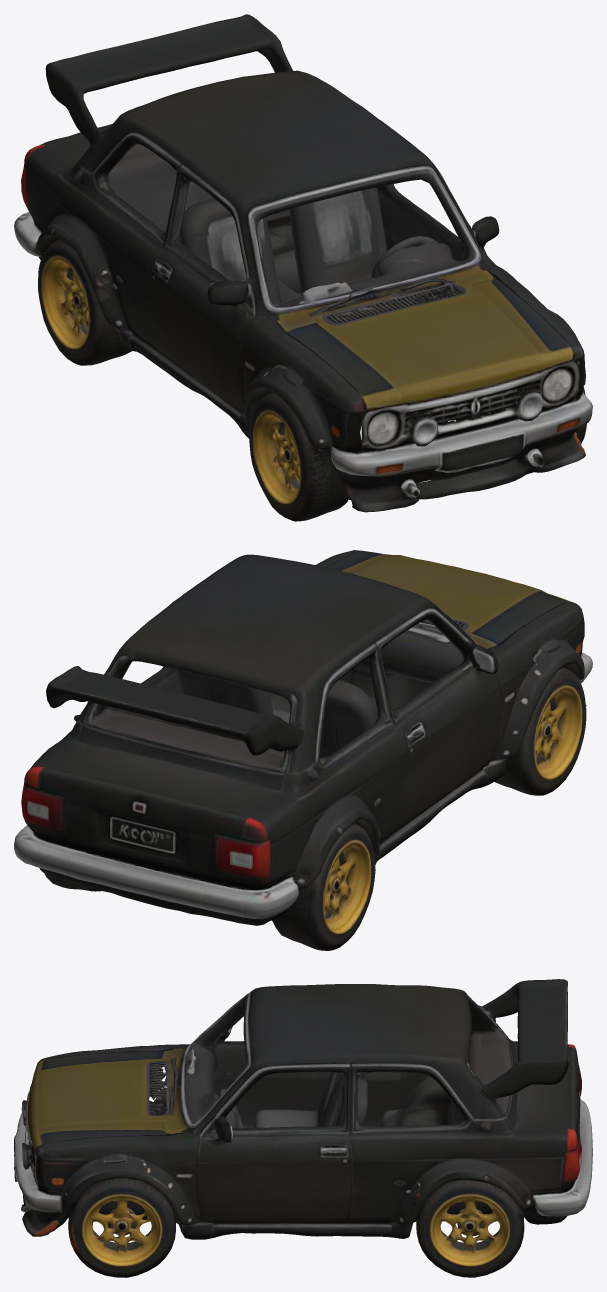
File: g67_misha_car.glb
3 views of the same model, one above another, from view 1: azimuth 30°, elevation 25°; view 2: azimuth 150°, elevation 25°; view 3: azimuth 270°, elevation 25° (orthographic). The views are drawn at different scales.
Visible parts, largest first — view 1: tripo_node_82aa6127; view 2: tripo_node_82aa6127; view 3: tripo_node_82aa6127.
Boxes of the visible parts, x1=… form: tripo_node_82aa6127: x1=14, y1=14, x2=592, y2=521; tripo_node_82aa6127: x1=14, y1=550, x2=592, y2=950; tripo_node_82aa6127: x1=14, y1=979, x2=592, y2=1277.
Size of the model in its own units: 46.99 by 38.67 by 98.01.
1 material, 1 textured.
